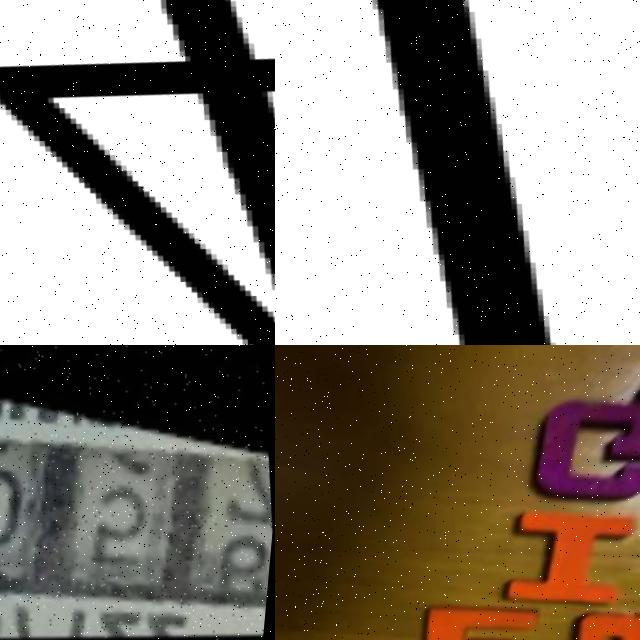0: (0, 444, 48, 556)
5: (76, 464, 166, 575)
7: (207, 421, 275, 526)
E: (401, 583, 558, 640)
G: (518, 383, 640, 514)
I: (501, 491, 629, 611)
L: (309, 0, 640, 345)
W: (559, 587, 640, 640)
